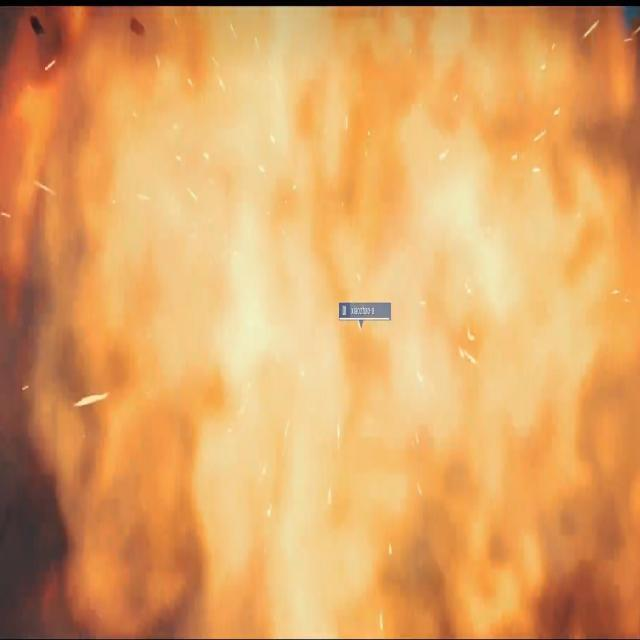fire: (0, 13, 630, 636)
